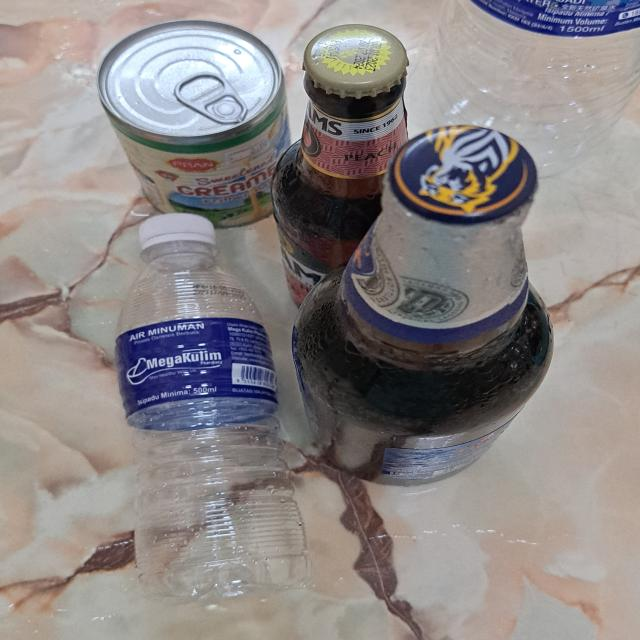can: (98, 20, 292, 227)
glass bottle: (300, 122, 554, 487), (276, 20, 410, 300)
plastic bottle: (119, 214, 306, 601), (443, 0, 640, 160)
plastic bottle cap: (135, 212, 218, 256)
pop tab: (172, 74, 251, 125)
